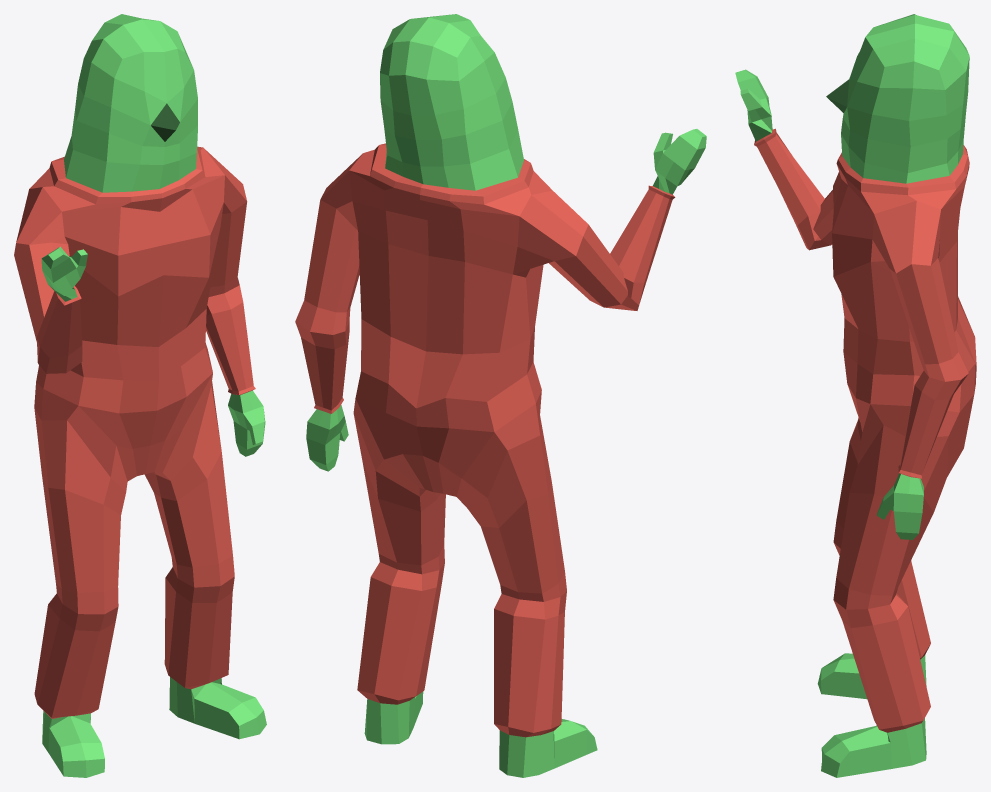
Rendered from Humbertha_Plush.fbx.
3 renders of one model, left to right at view 1: azimuth 30°, elevation 25°; view 2: azimuth 150°, elevation 25°; view 3: azimuth 270°, elevation 25°, orthographic. The views are drawn at different scales.
Parts seen in each view (by area): view 1: Cube; view 2: Cube; view 3: Cube.
Boxes of the visible parts, <box> form: Cube: <box>14,14,266,777</box>; Cube: <box>295,14,706,777</box>; Cube: <box>735,14,976,777</box>.
Bounding box in the file's own units: 77.04 × 177 × 54.31.
